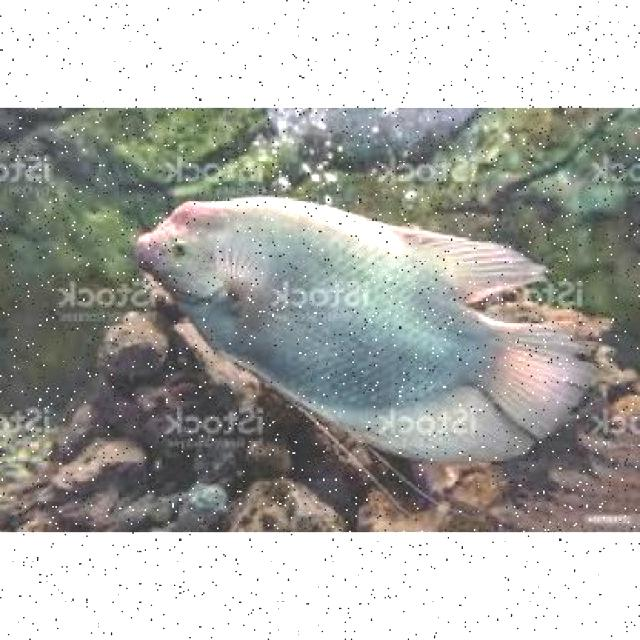gurame: (132, 196, 588, 462)
